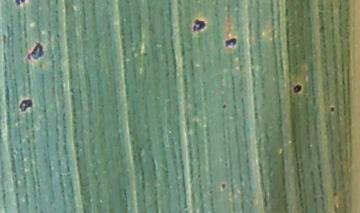tarspot: (26, 43, 44, 60), (191, 17, 207, 33), (17, 98, 33, 112), (291, 84, 303, 94), (225, 37, 236, 47), (220, 181, 227, 190), (15, 1, 26, 6), (330, 105, 335, 112), (222, 103, 227, 109)
